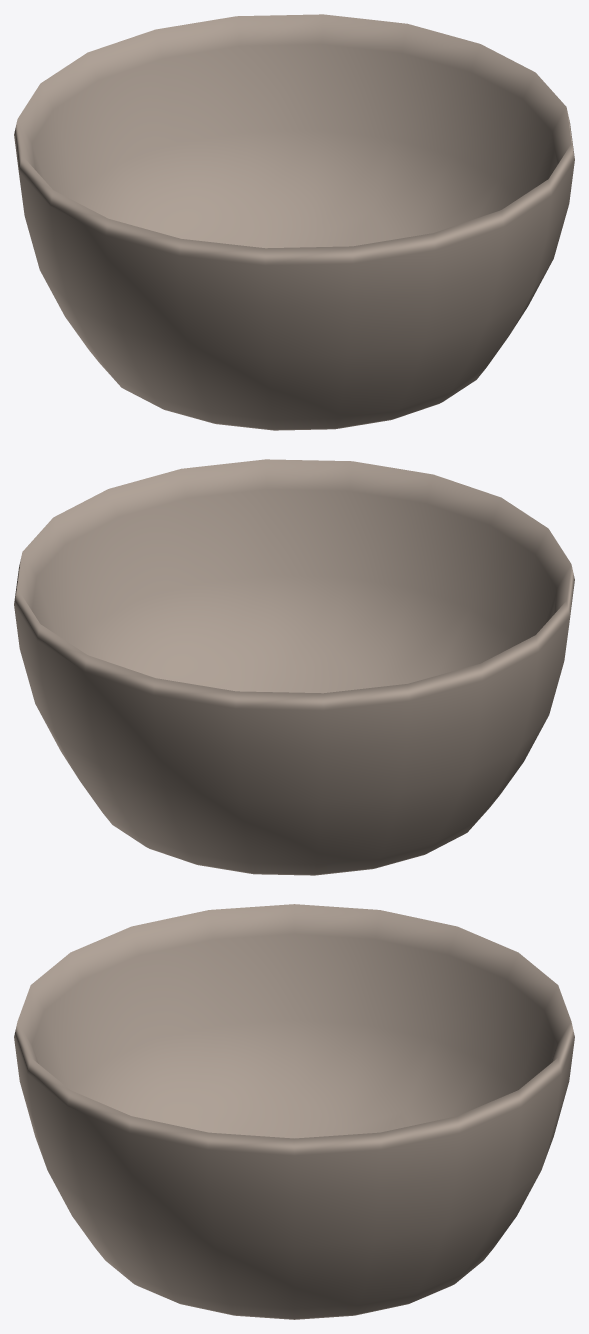
Rendered from Poterie9.fbx.
3 views of the same model, one above another, from view 1: azimuth 30°, elevation 25°; view 2: azimuth 150°, elevation 25°; view 3: azimuth 270°, elevation 25° (orthographic).
Parts seen in each view (by area): view 1: polySurface39; view 2: polySurface39; view 3: polySurface39.
Boxes of the visible parts, left/top/right/bottom form: polySurface39: left=14, top=14, right=574, bottom=430; polySurface39: left=14, top=459, right=574, bottom=875; polySurface39: left=14, top=904, right=574, bottom=1319.
Bounding box in the file's own units: 0.1774 × 0.0766 × 0.1772.
